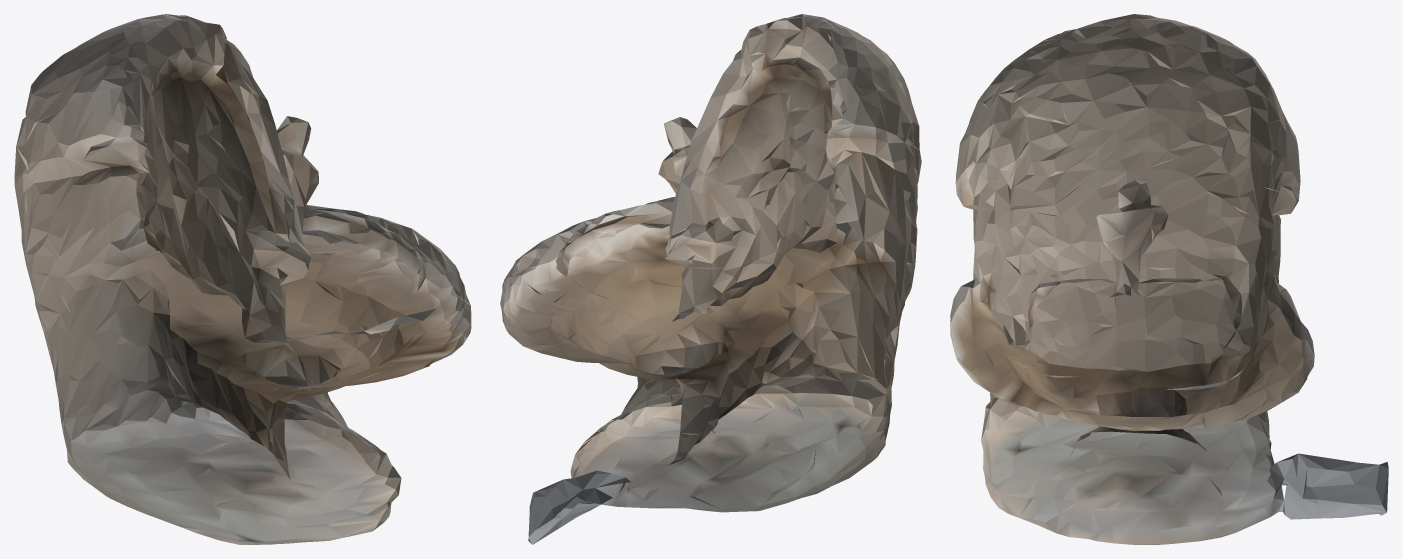
Rendered from fountain_11.glb.
3 renders of one model, left to right at view 1: azimuth 30°, elevation 25°; view 2: azimuth 150°, elevation 25°; view 3: azimuth 270°, elevation 25°, orthographic. The views are drawn at different scales.
Parts seen in each view (by area): view 1: geometry_0; view 2: geometry_0; view 3: geometry_0.
Part boxes in pixels (x1,y1,x2,y2): geometry_0: [14, 14, 471, 544]; geometry_0: [500, 14, 921, 544]; geometry_0: [950, 14, 1388, 544].
Bounding box in the file's own units: 0.8166 × 1 × 0.9071.
